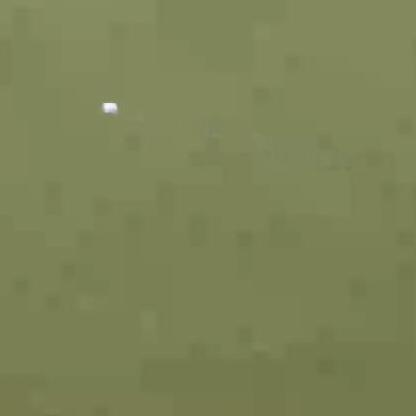golfball: (101, 99, 117, 115)
